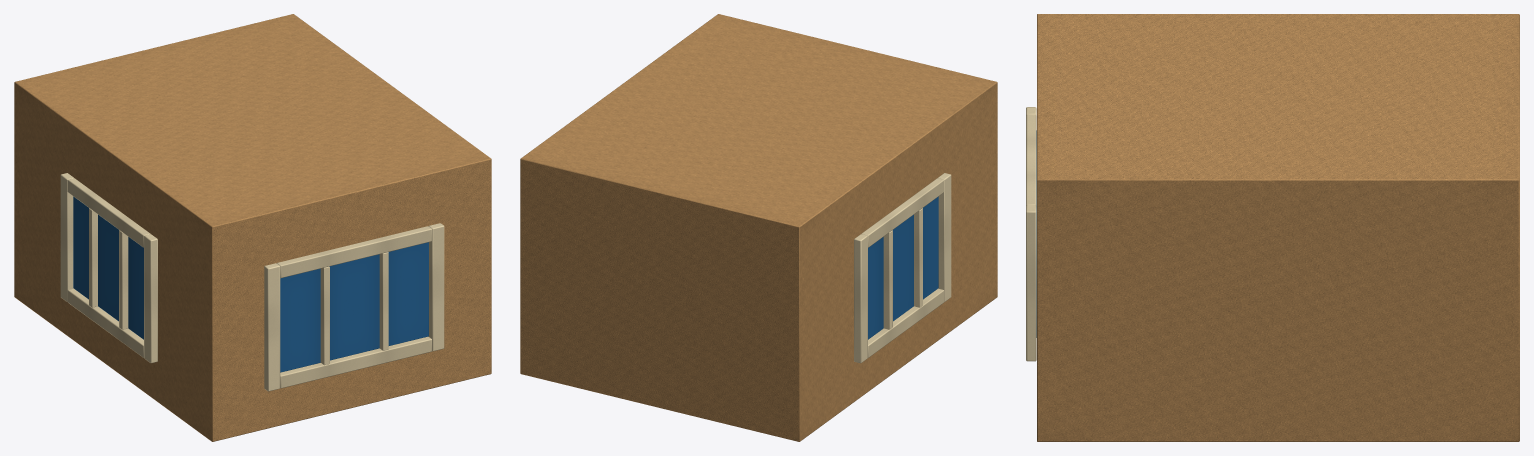
Rendered from 9-top-box-left-wing.fbx.
3 renders of one model, left to right at view 1: azimuth 30°, elevation 25°; view 2: azimuth 150°, elevation 25°; view 3: azimuth 270°, elevation 25°, orthographic. The views are drawn at different scales.
Parts seen in each view (by area): view 1: top-box-left-wing; view 2: top-box-left-wing; view 3: top-box-left-wing.
Boxes of the visible parts, x1=… form: top-box-left-wing: x1=14, y1=14, x2=491, y2=441; top-box-left-wing: x1=520, y1=14, x2=997, y2=441; top-box-left-wing: x1=1026, y1=14, x2=1519, y2=441.
Bounding box in the file's own units: 5855 × 4200 × 7155.
Materials: 1 (1 with a texture image).
